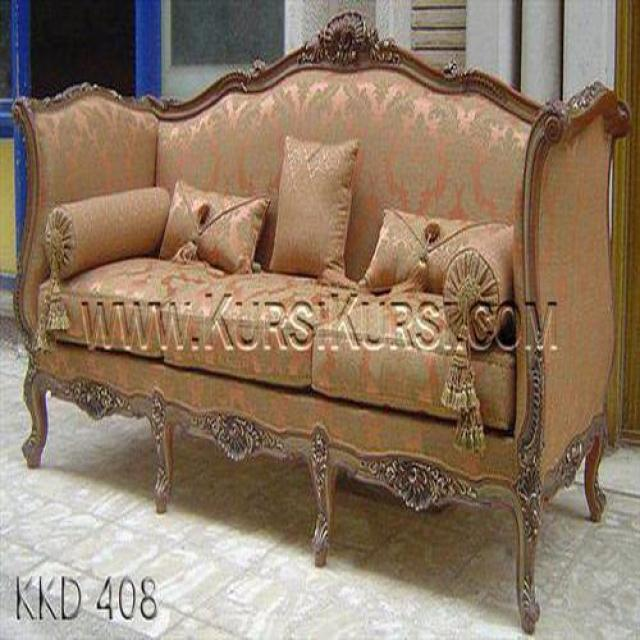sofa: (15, 20, 625, 628)
